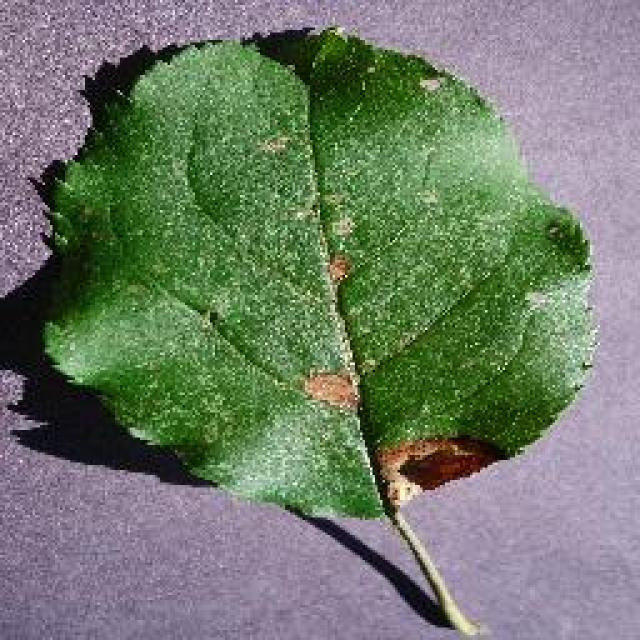Apple___Black_rot: (94, 155, 576, 514)
